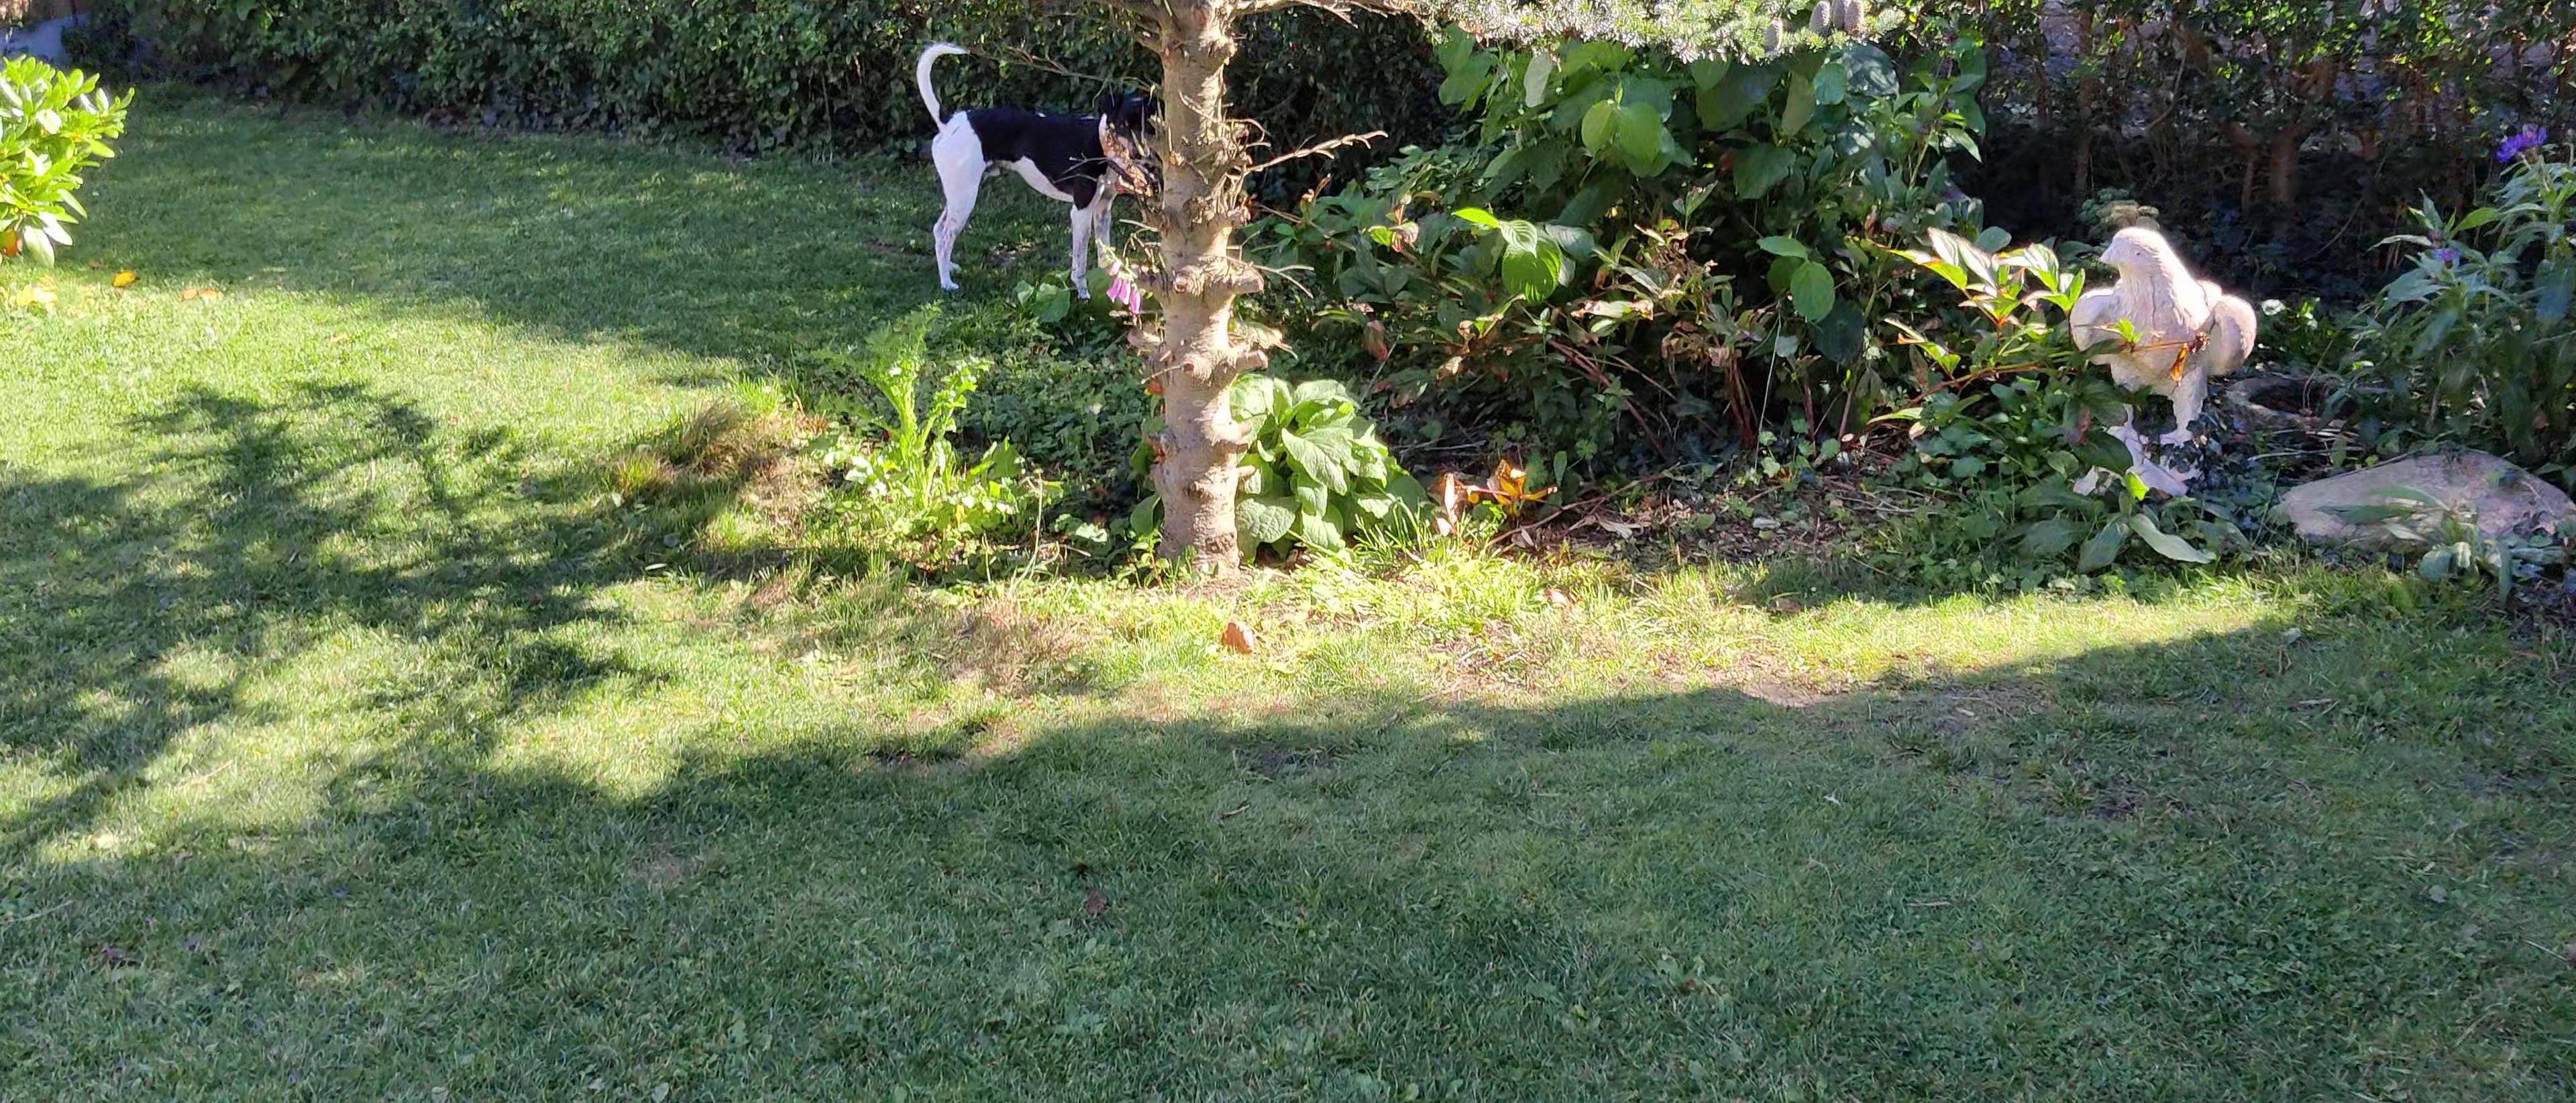Dog: (908, 36, 1163, 301)
